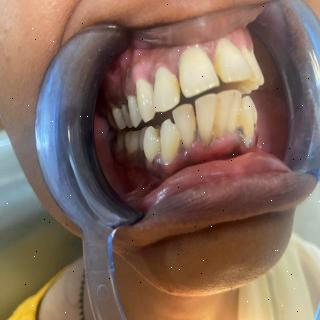calculus: (238, 123, 256, 150), (190, 119, 206, 147), (207, 122, 218, 146)
maligned: (174, 48, 213, 98), (214, 38, 252, 86), (239, 41, 264, 88), (152, 68, 178, 112), (195, 96, 219, 141), (158, 120, 182, 162), (174, 108, 197, 144), (217, 95, 233, 141), (239, 100, 257, 140), (143, 127, 163, 158), (231, 88, 241, 134)
plaque: (174, 132, 188, 156), (110, 106, 120, 122), (121, 100, 131, 116)
stains: (208, 56, 228, 78), (171, 73, 185, 97)
